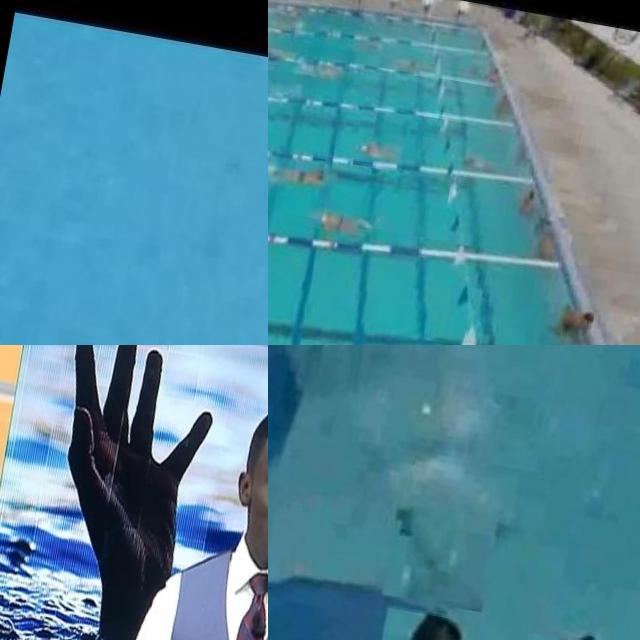drowning: (381, 502, 496, 612)
out of water: (84, 364, 268, 640)
swimming: (317, 209, 373, 245), (352, 132, 402, 170), (276, 160, 327, 197), (546, 306, 592, 342), (458, 152, 496, 180), (490, 90, 519, 124), (508, 183, 536, 216), (298, 60, 344, 80), (268, 0, 302, 26)
